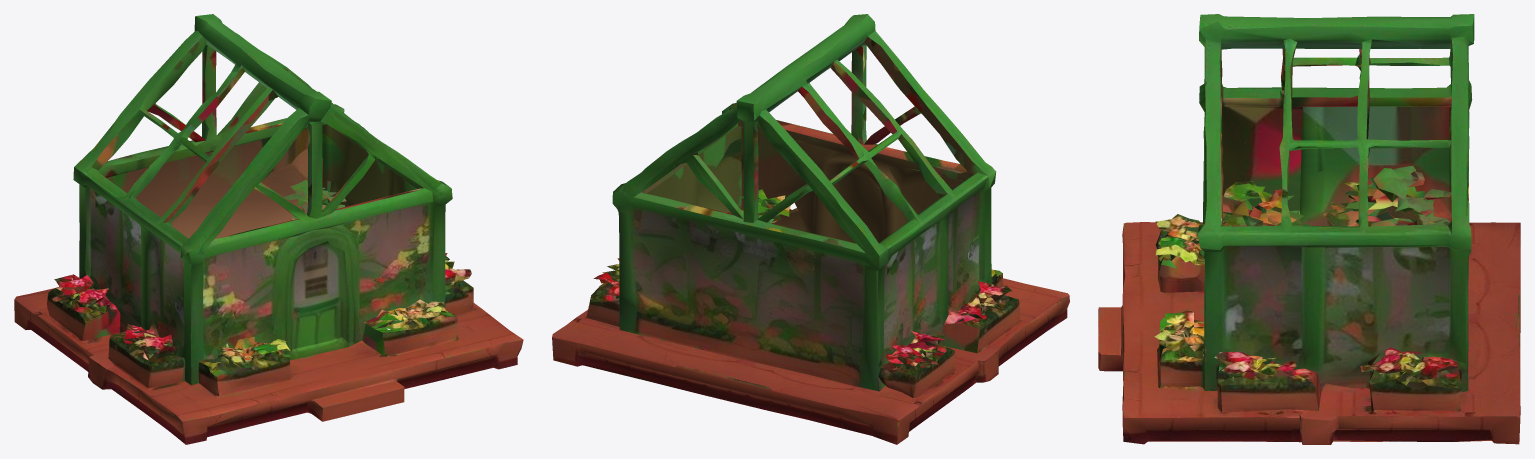
File: seedhouse.glb
The picture shows the model from 3 angles, left to right: view 1: azimuth 30°, elevation 25°; view 2: azimuth 150°, elevation 25°; view 3: azimuth 270°, elevation 25°; orthographic projection. The views are drawn at different scales.
Parts seen in each view (by area): view 1: seedhouse; view 2: seedhouse; view 3: seedhouse.
Boxes of the visible parts, x1,y1,x2,y2 form: seedhouse: (14, 14, 523, 444); seedhouse: (552, 14, 1069, 444); seedhouse: (1098, 14, 1520, 444).
Bounding box in the file's own units: 1 × 0.7699 × 0.8892.
Materials: 1 (1 with a texture image).
